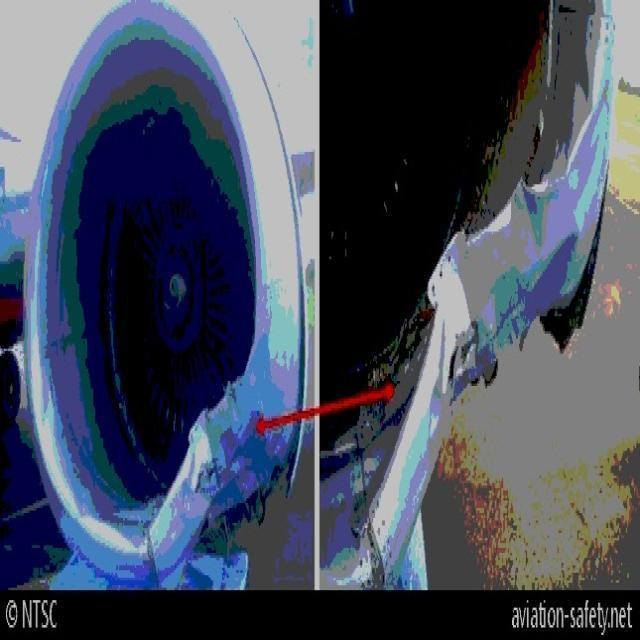dent: (447, 238, 487, 350), (515, 188, 548, 263)
